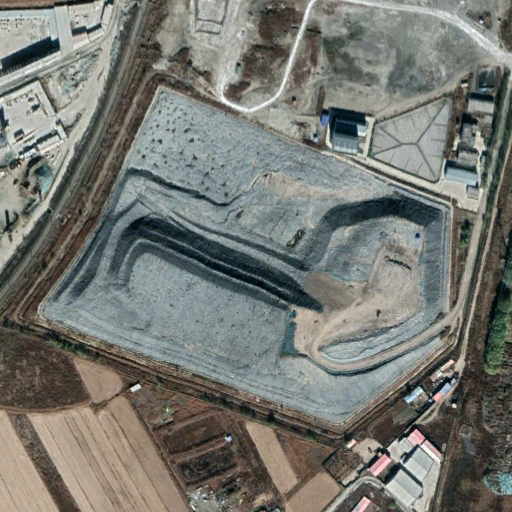lf: (27, 76, 452, 427)
